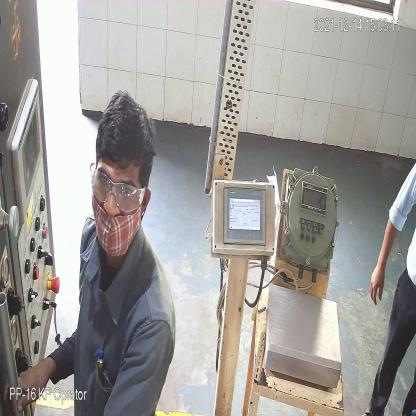goggles: (89, 171, 143, 214)
no_glove: (368, 215, 406, 314)
